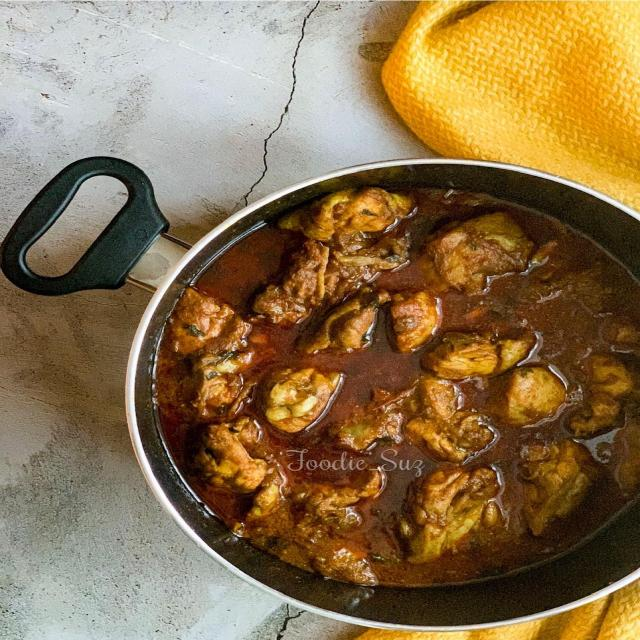chicken: (148, 172, 640, 593)
